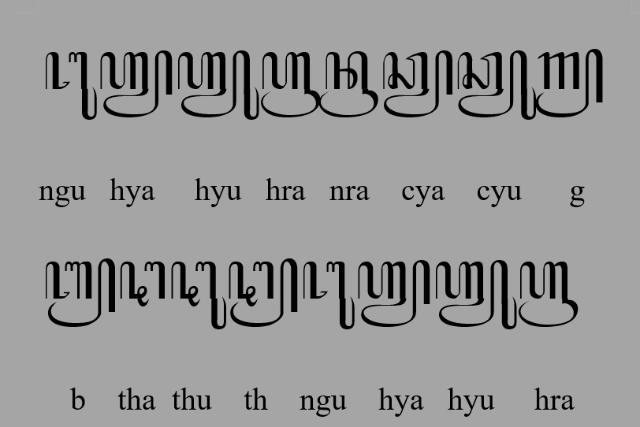-b: (46, 257, 116, 327)
-g: (536, 48, 604, 118)
-th: (228, 258, 298, 328)
cy: (384, 49, 454, 116)
cyu: (456, 50, 536, 120)
hr: (518, 260, 578, 328), (261, 50, 321, 117)
hy: (100, 49, 172, 118), (358, 260, 430, 328)
hyu: (434, 260, 518, 330), (178, 50, 260, 120)
ngu: (44, 51, 98, 121), (302, 260, 356, 330)
nr: (317, 50, 378, 118)
th: (118, 260, 166, 307)
thu: (170, 261, 228, 331)
